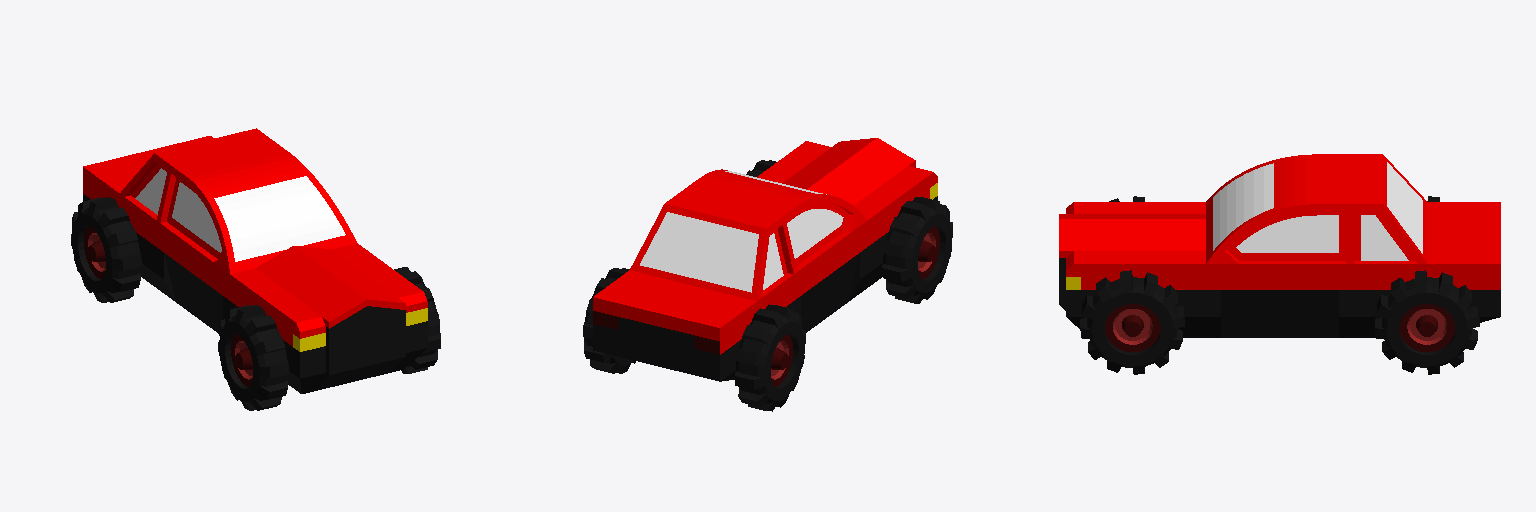
Rendered from car1.obj.
3 views of the same model, side by side, from view 1: azimuth 30°, elevation 25°; view 2: azimuth 150°, elevation 25°; view 3: azimuth 270°, elevation 25° (orthographic).
Parts seen in each view (by area): view 1: body_frontLuxury, body_topRound, wheel_ridges, body_edge, body_backSolid, body_topBackStandard; view 2: body_backSolid, wheel_ridges, body_topBackStandard, body_frontLuxury, body_topRound, body_edge; view 3: wheel_ridges, body_topRound, body_frontLuxury, body_edge, body_backSolid, body_topBackStandard.
Part boxes in pixels (x1,y1,x2,y2): body_frontLuxury: (230, 243, 427, 393); body_topRound: (156, 139, 356, 273); wheel_ridges: (71, 197, 440, 410); body_edge: (156, 221, 229, 333); body_backSolid: (83, 136, 214, 296); body_topBackStandard: (120, 128, 269, 214); body_backSolid: (593, 270, 793, 381); wheel_ridges: (583, 160, 952, 411); body_topBackStandard: (630, 193, 786, 300); body_frontLuxury: (757, 138, 937, 296); body_topRound: (680, 169, 867, 273); body_edge: (794, 221, 867, 332); wheel_ridges: (1080, 196, 1479, 374); body_topRound: (1206, 154, 1353, 263); body_frontLuxury: (1059, 202, 1205, 337); body_edge: (1206, 261, 1353, 337); body_backSolid: (1354, 202, 1500, 337); body_topBackStandard: (1354, 154, 1426, 263).
Bounding box in the file's own units: 1.42 × 1.16 × 3.